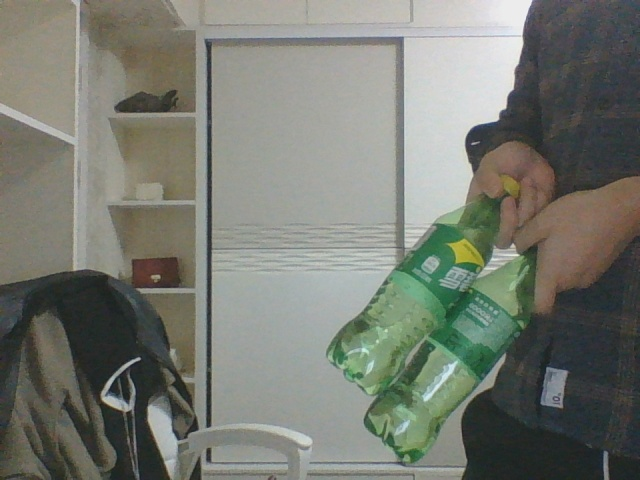Sprite: (324, 172, 519, 392), (362, 249, 541, 463)
